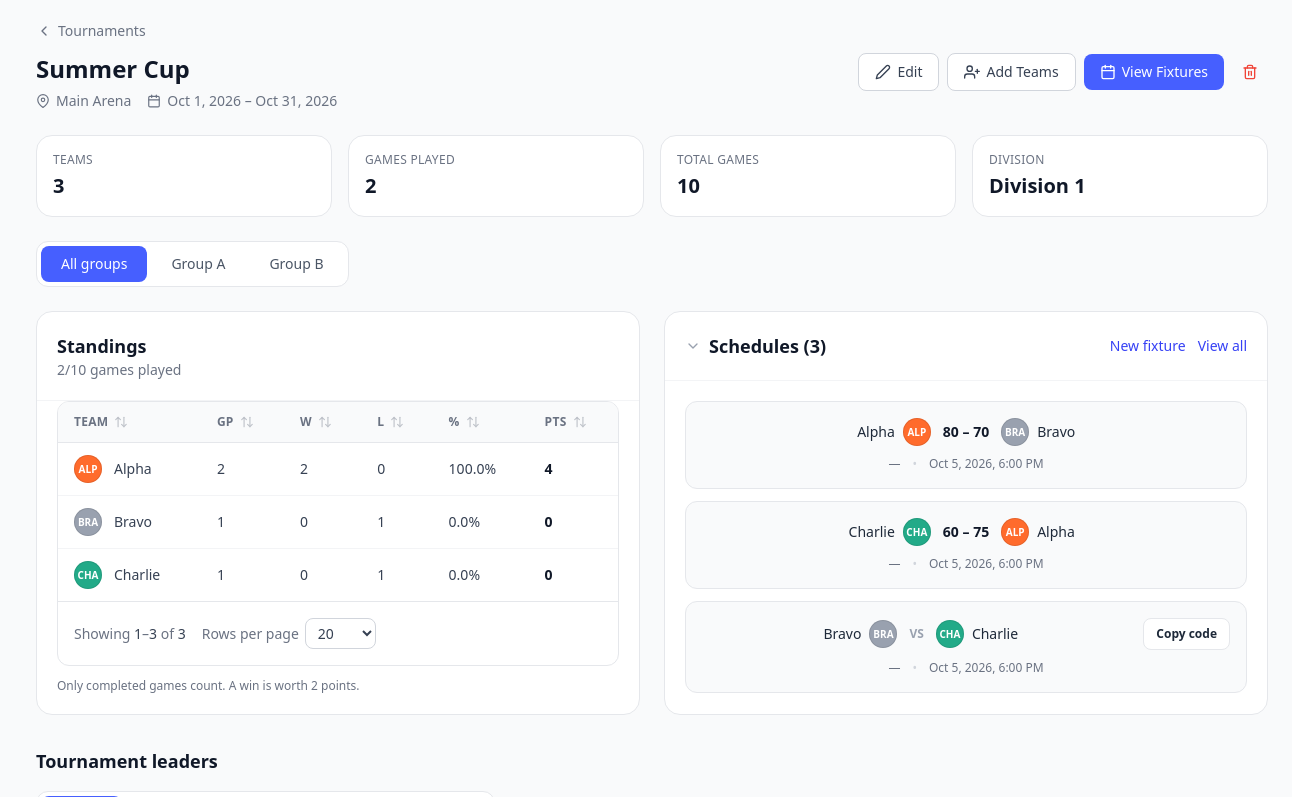
Scenario: Tournament detail: standings and its group tabs › keeps the chosen group in the URL
Click the button "Group B".
click(296, 264)  # box [249,246,344,282]
(page scrolled)
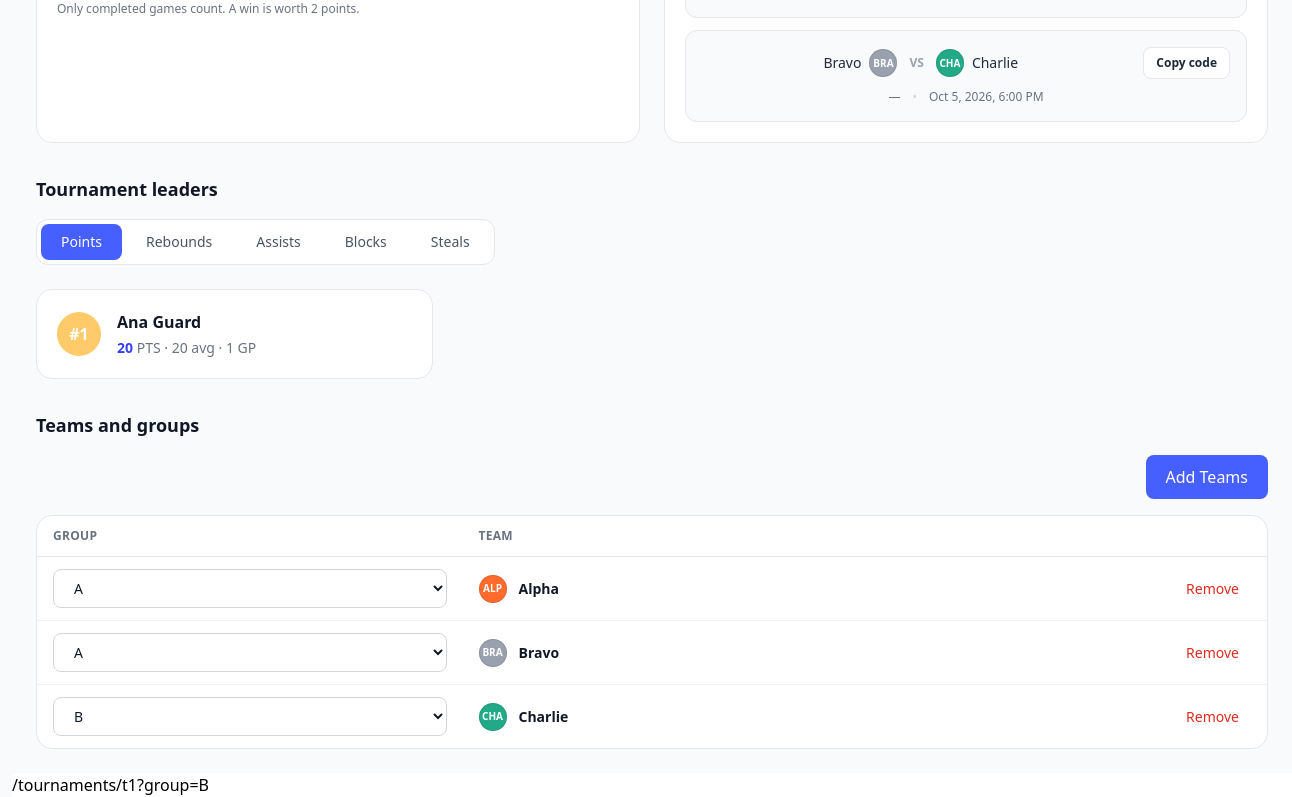
Now the text with test id "where" shows "group=B", box [137,774,209,796]
